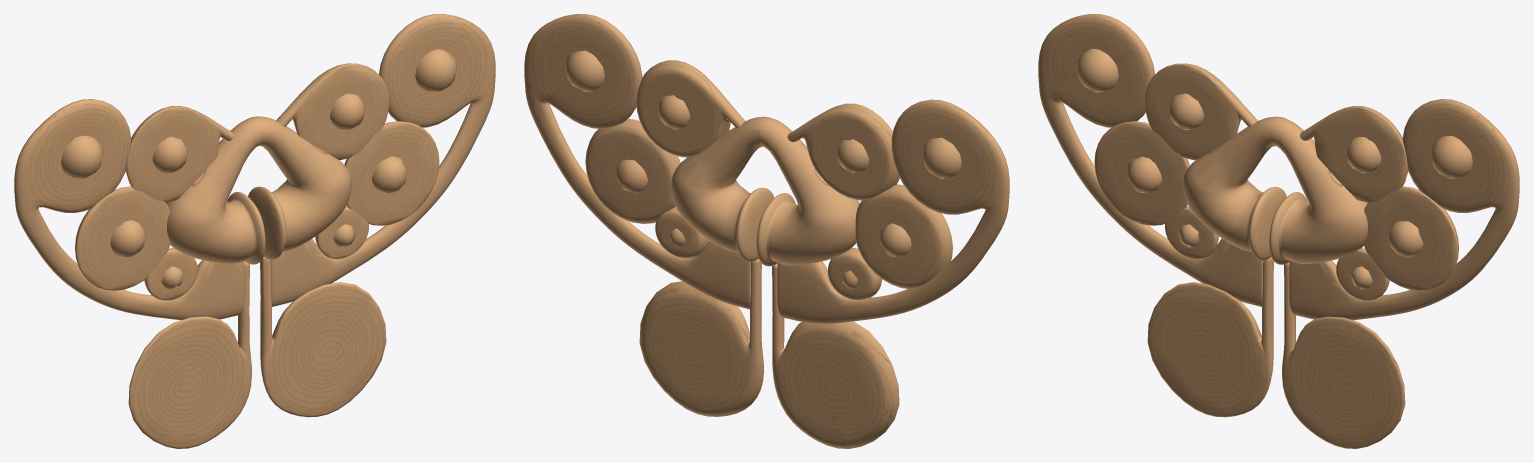
The model's file is tairona_-_nariguera_zoomorfa.lod1.glb.
3 renders of one model, left to right at view 1: azimuth 30°, elevation 25°; view 2: azimuth 150°, elevation 25°; view 3: azimuth 330°, elevation 25°, orthographic.
Parts seen in each view (by area): view 1: Circle.001, Circle, Sphere.004; view 2: Circle.001, Circle, Sphere.004; view 3: Circle.001, Circle, Sphere.004.
Part boxes in pixels (left/top/right/bottom): Circle.001: left=14, top=14, right=495, bottom=448; Circle: left=166, top=116, right=351, bottom=264; Sphere.004: left=61, top=49, right=457, bottom=289; Circle.001: left=524, top=14, right=1009, bottom=448; Circle: left=671, top=116, right=859, bottom=266; Sphere.004: left=565, top=50, right=961, bottom=289; Circle.001: left=1038, top=14, right=1519, bottom=448; Circle: left=1183, top=116, right=1367, bottom=264; Sphere.004: left=1076, top=48, right=1472, bottom=289.
Size of the model in its own units: 8.23 by 6.08 by 1.12.
Materials: 1 (1 with a texture image).
